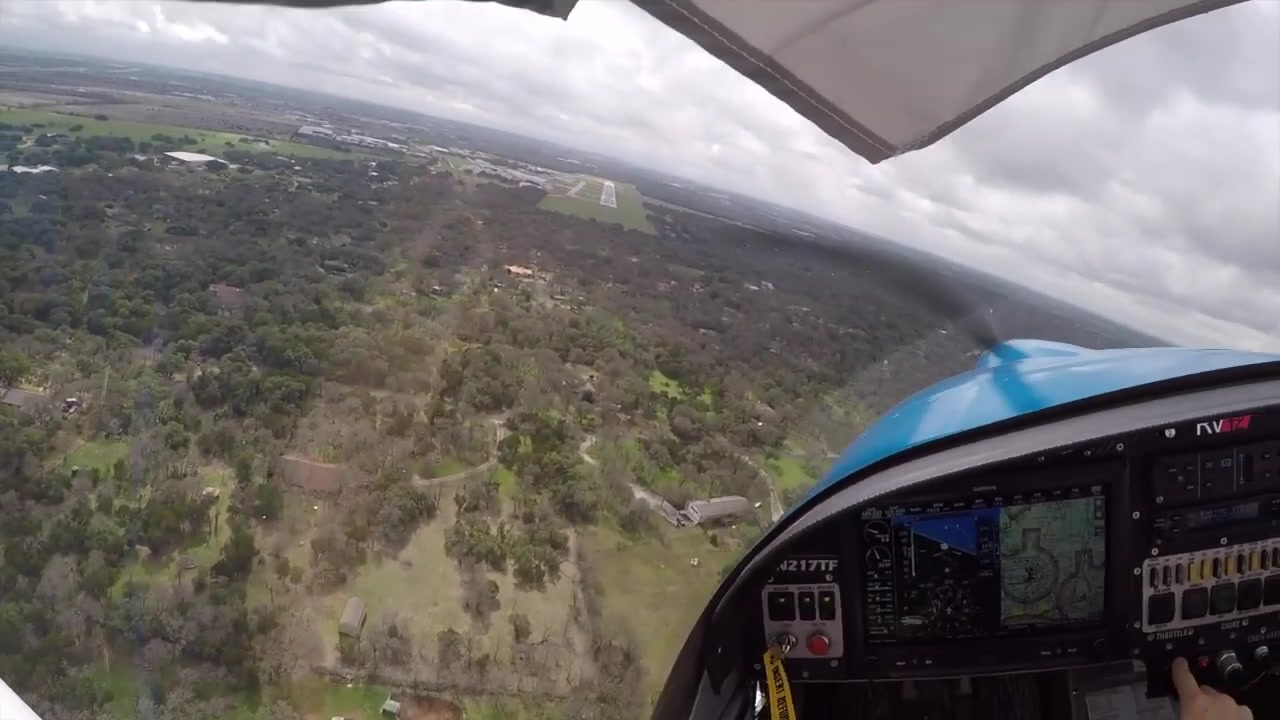runway: (598, 179, 618, 210)
